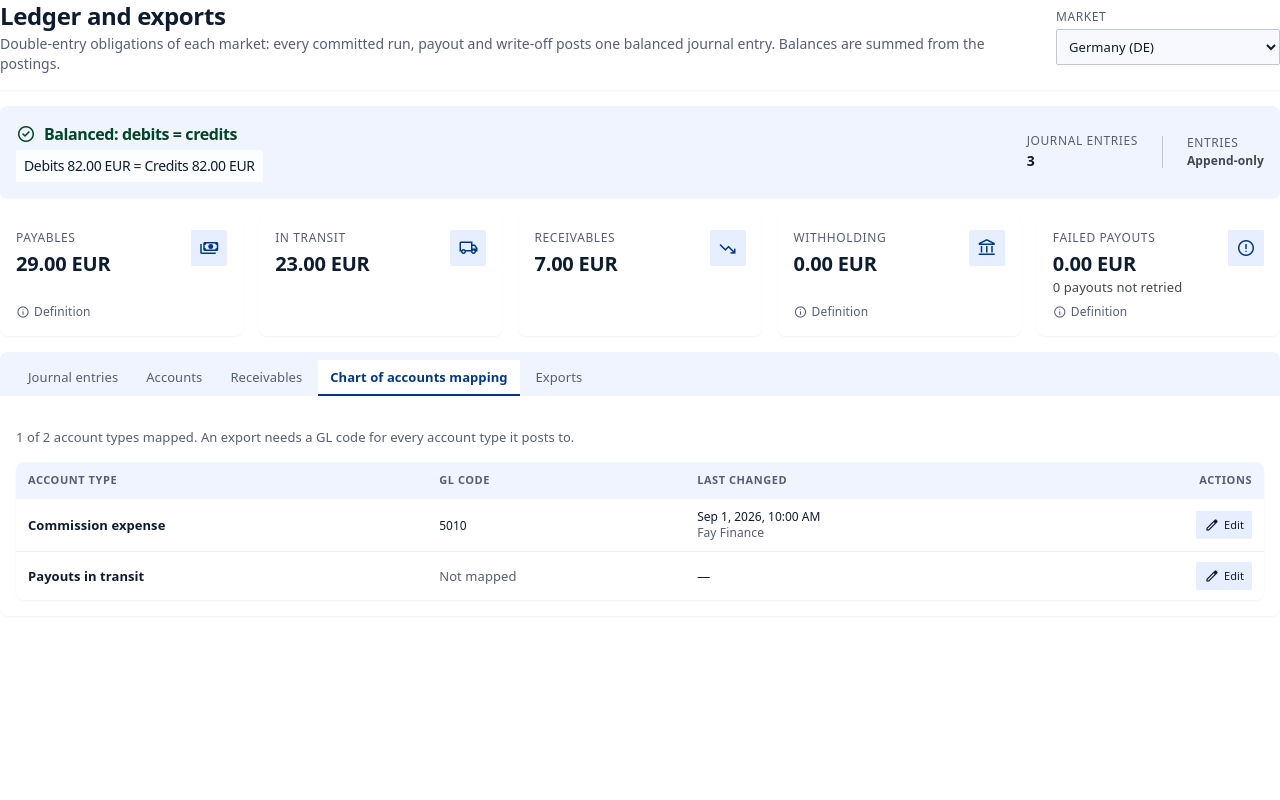
Scenario: LedgerPage (SC-33) › edits a GL code and generates an export, naming unmapped account types in words
This screenshot has width=1280, height=800.
expect the text "1 of 2 account types mapped. An export needs a GL code for every account type it posts to." is shown: met, box top-left (16, 428), bottom-right (574, 446)
Click the button with aria-label "Edit GL code of Payouts in transit" at (1224, 576), box top-left (1196, 562), bottom-right (1252, 590)
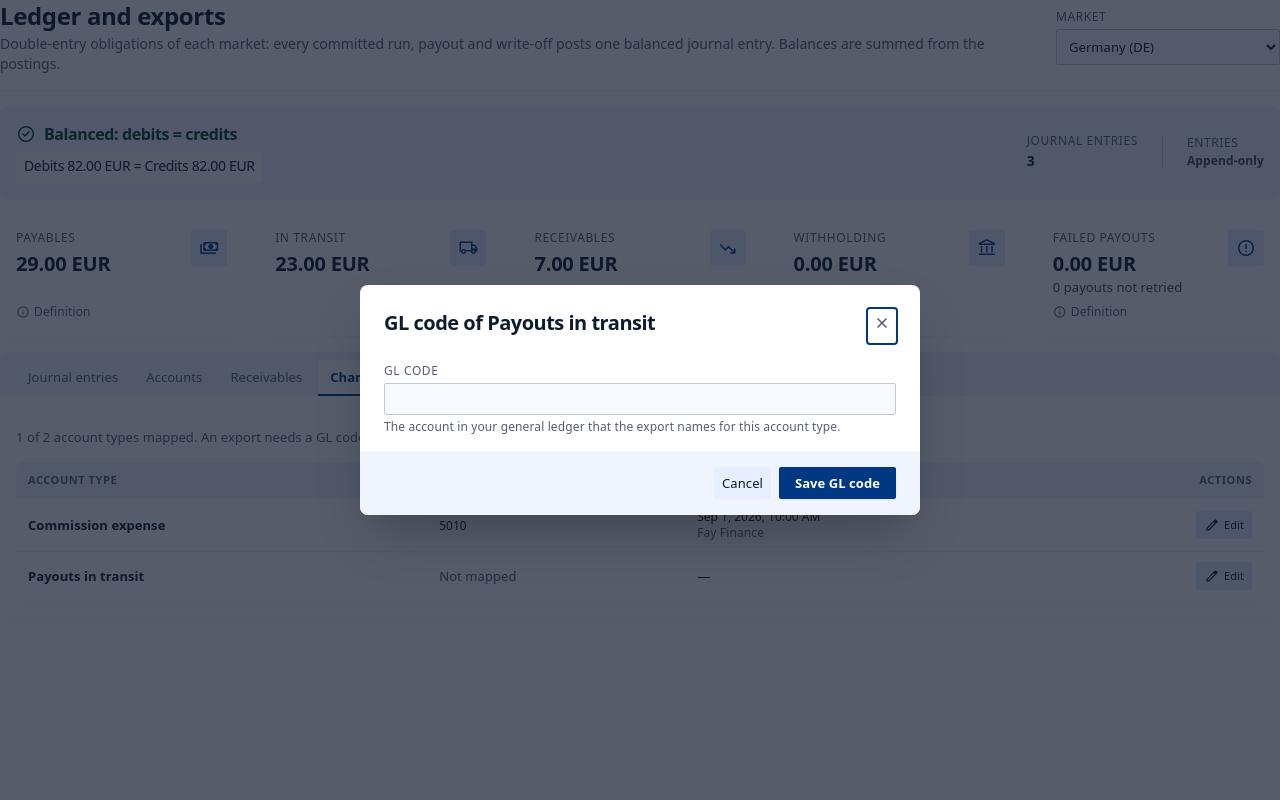
Type "-2110" into the field labelled "GL code" at (640, 399), box top-left (384, 383), bottom-right (896, 415)
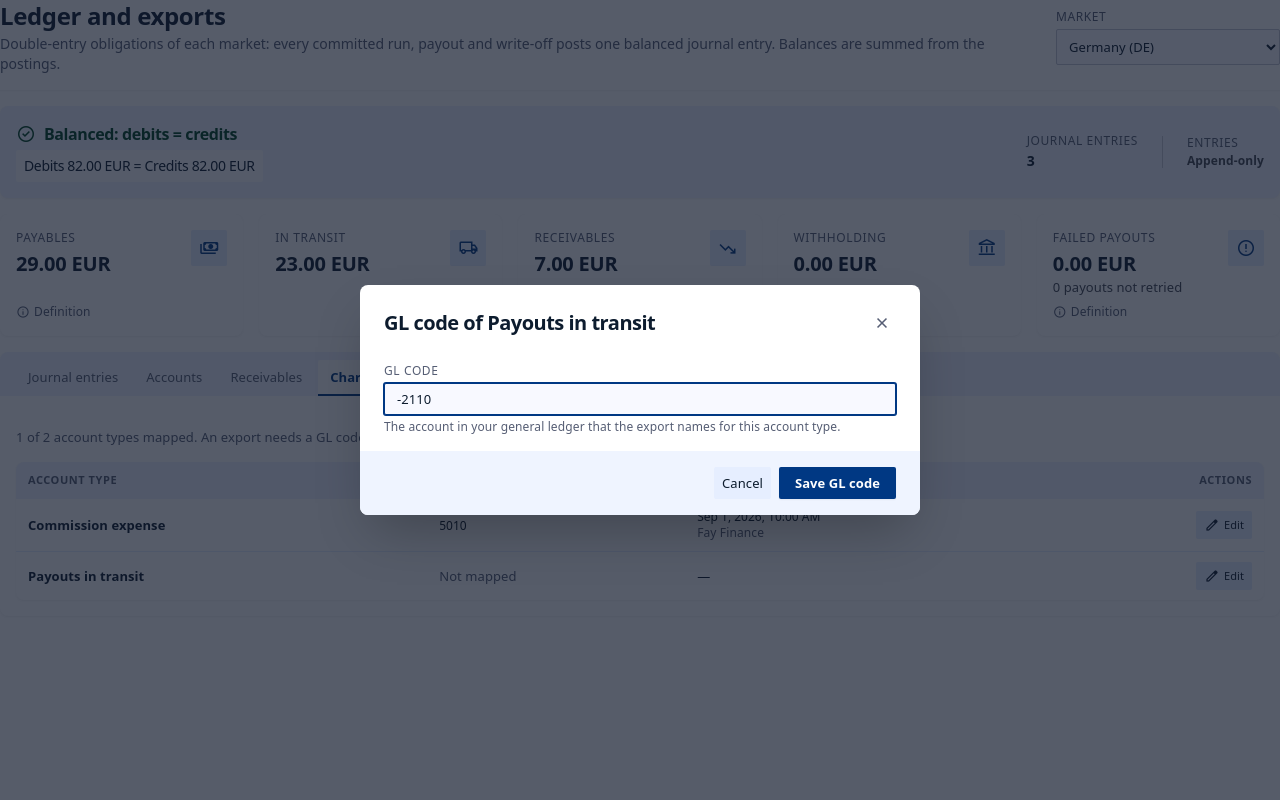
Click the button "Save GL code" at (838, 483), box top-left (779, 467), bottom-right (896, 499)
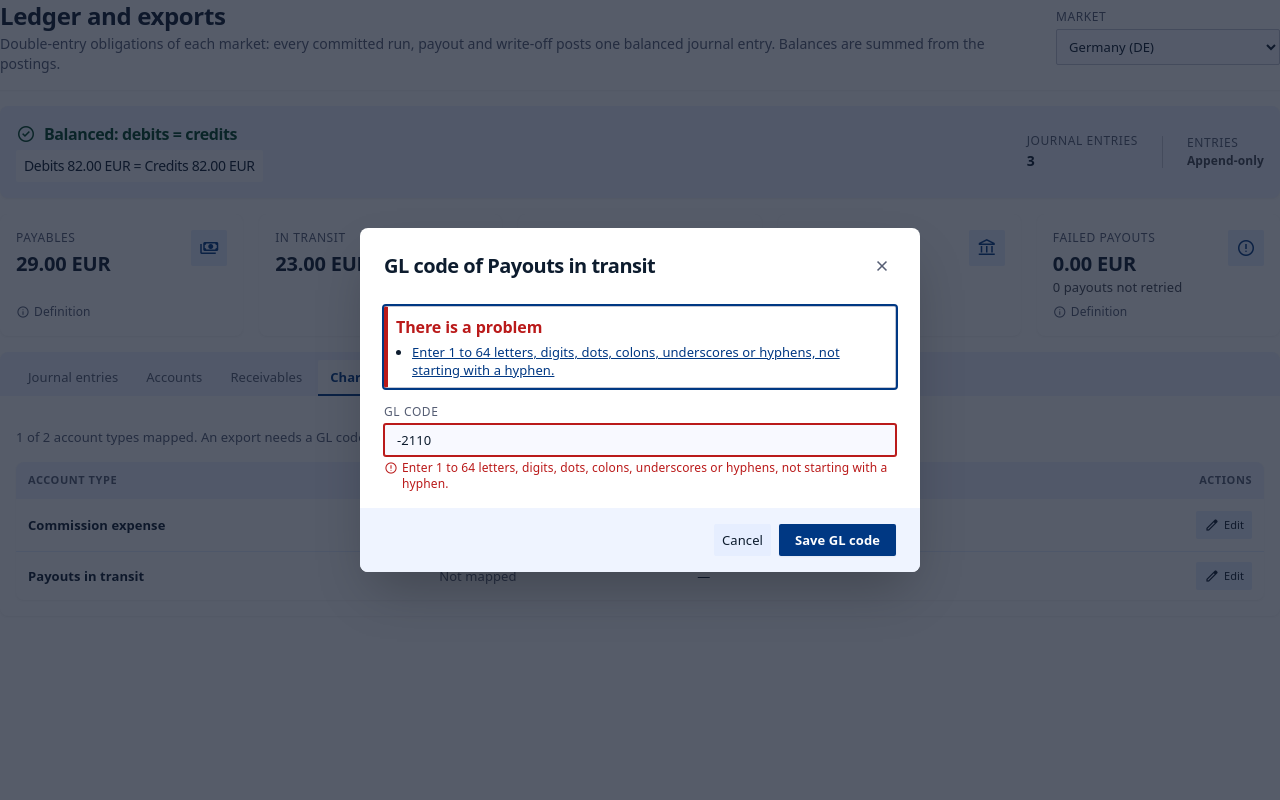
Replace the text in the field labelled "GL code" with "2110" at (640, 440), box top-left (384, 424), bottom-right (896, 456)
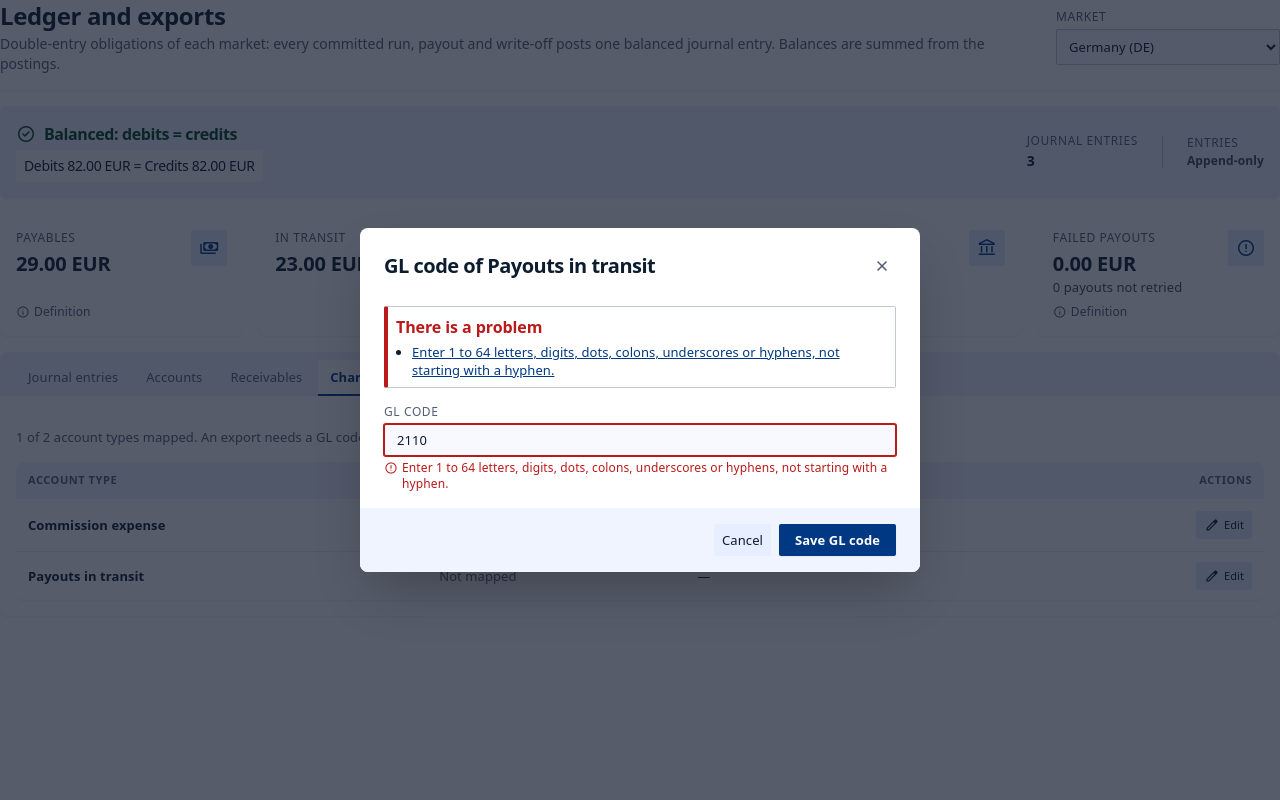
Click the button "Save GL code" at (838, 540), box top-left (779, 524), bottom-right (896, 556)
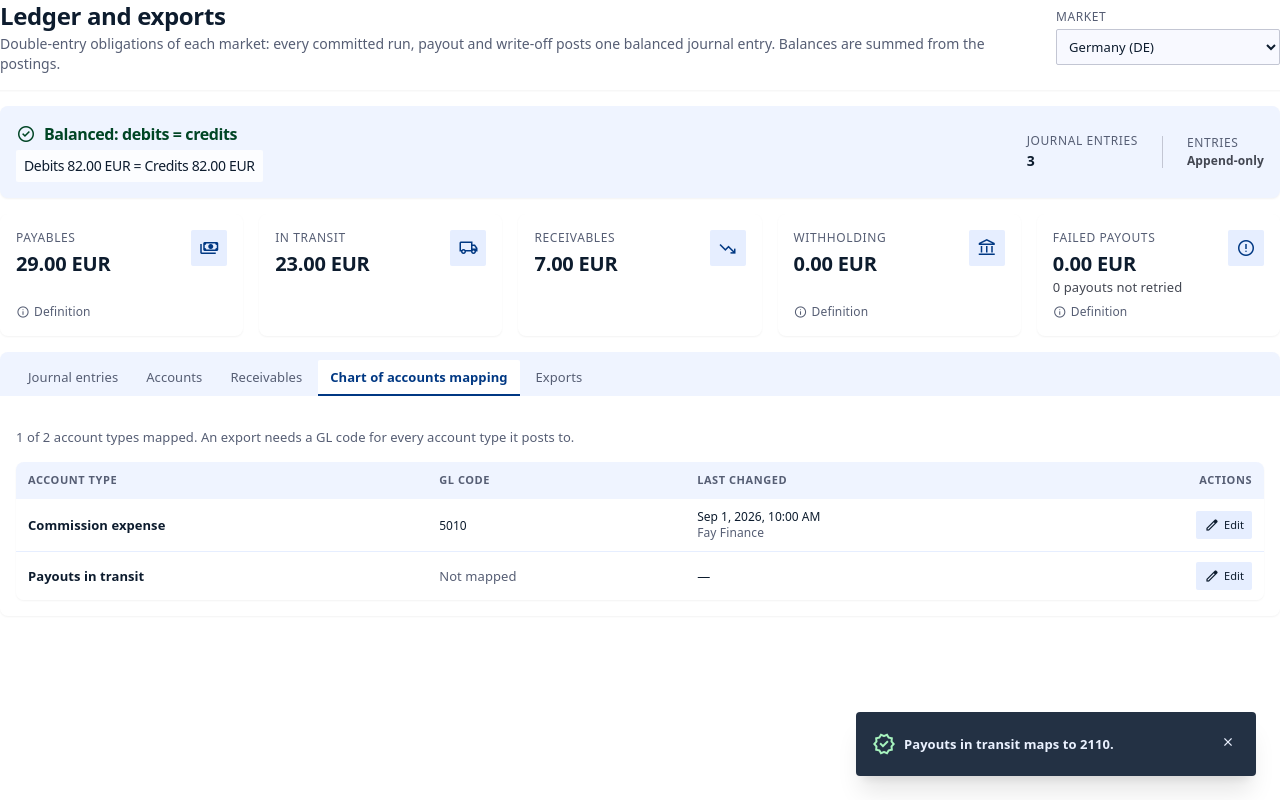
expect the text "Payouts in transit maps to 2110." is shown: met, box top-left (904, 735), bottom-right (1114, 753)
